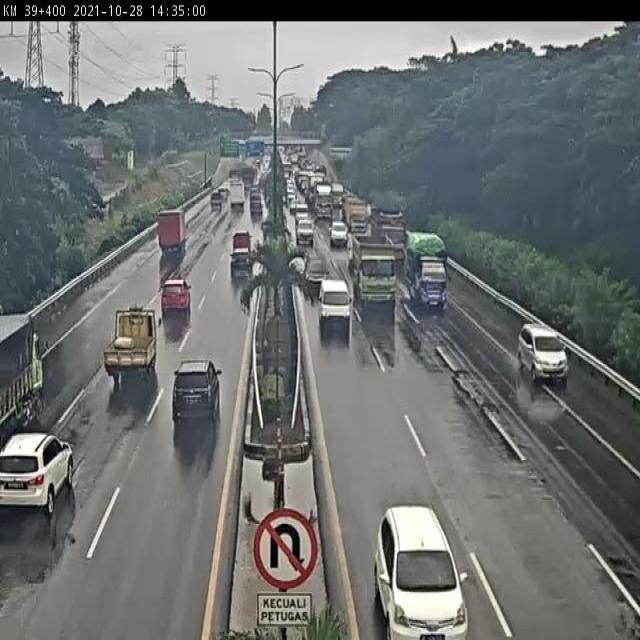big truck: (0, 310, 53, 434), (348, 236, 398, 308)
car: (366, 484, 480, 640), (1, 423, 79, 540), (164, 355, 222, 436), (512, 320, 569, 393), (315, 287, 353, 341), (157, 276, 192, 323), (291, 211, 320, 248), (303, 255, 329, 288), (328, 215, 351, 248), (229, 233, 257, 256), (232, 256, 257, 281)
small truck: (105, 308, 161, 388), (402, 229, 447, 316), (153, 209, 190, 264)
